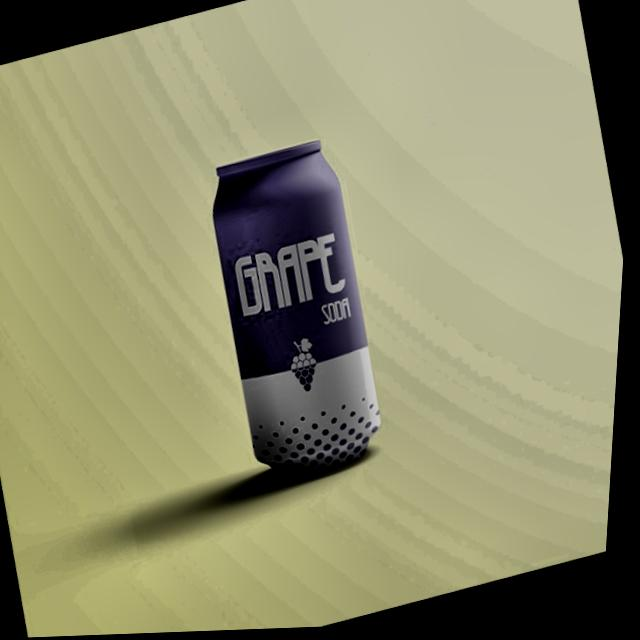Cans: (171, 109, 419, 508)
